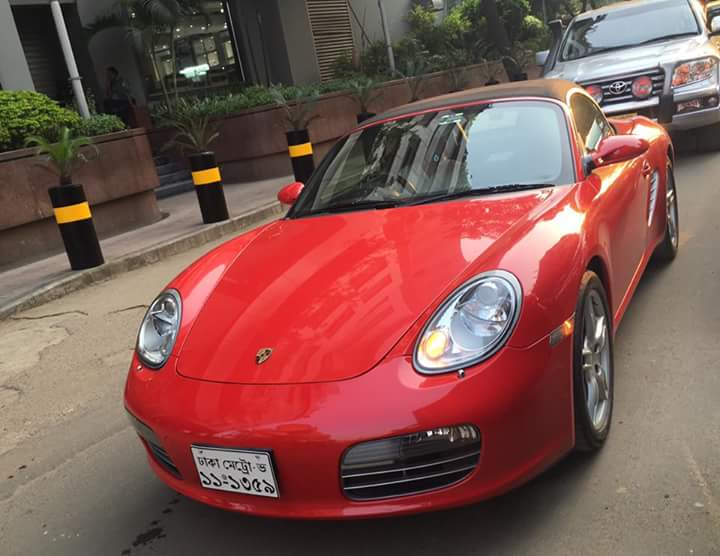registration_plate: (189, 444, 279, 498)
